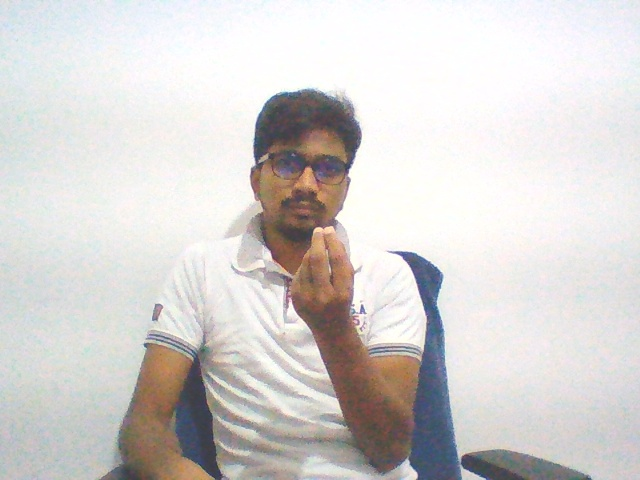dog: (284, 220, 369, 340)
